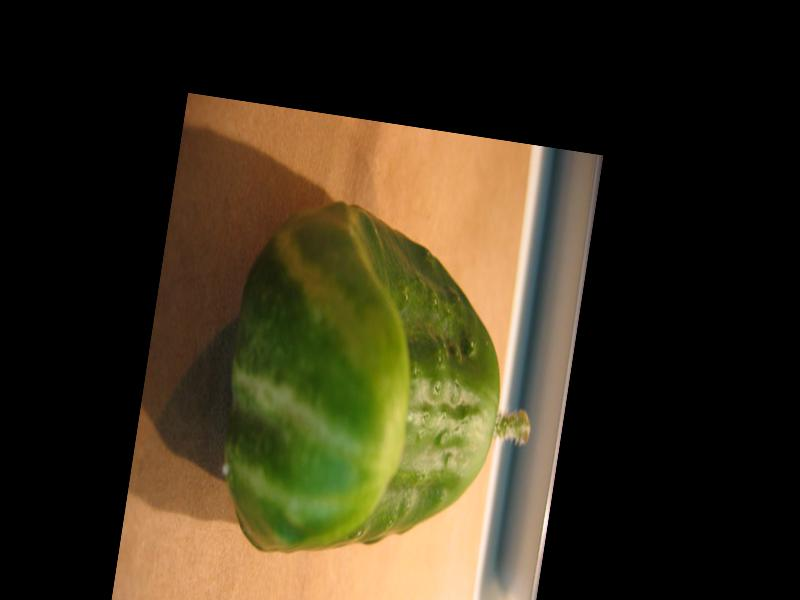Cucumber: (202, 192, 559, 591)
